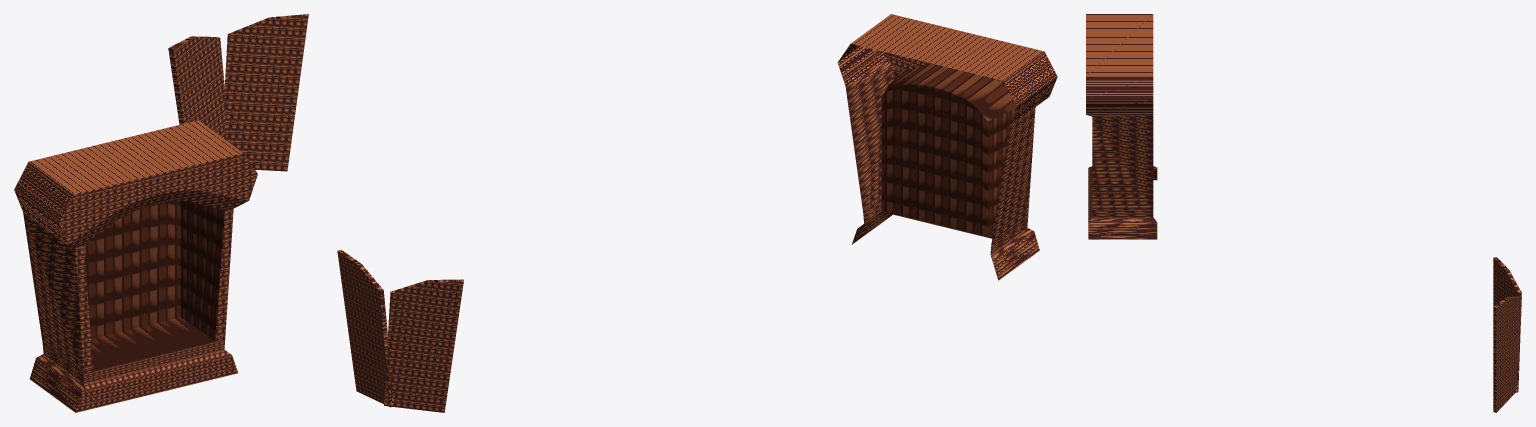
The model's file is mycloset01.gltf.
3 views of the same model, side by side, from view 1: azimuth 30°, elevation 25°; view 2: azimuth 150°, elevation 25°; view 3: azimuth 270°, elevation 25° (orthographic). The views are drawn at different scales.
Visible parts, largest first — view 1: mycloset01; view 2: mycloset01; view 3: mycloset01.
Boxes of the visible parts, x1,y1,x2,y2 form: mycloset01: (14, 14, 308, 412); mycloset01: (337, 14, 1057, 412); mycloset01: (1086, 14, 1521, 412).
Size of the model in its own units: 7.39 by 3.98 by 7.11.
2 materials, 2 textured.
